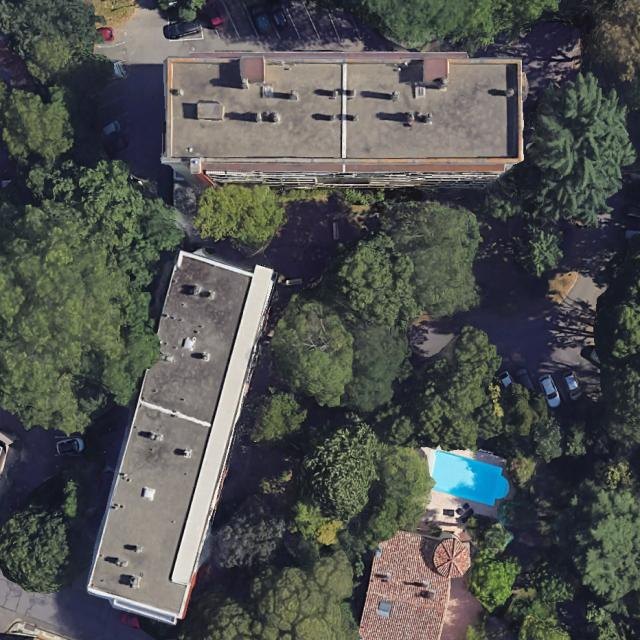immeuble: (80, 244, 279, 628), (161, 51, 526, 187)
maison: (358, 527, 472, 640)
